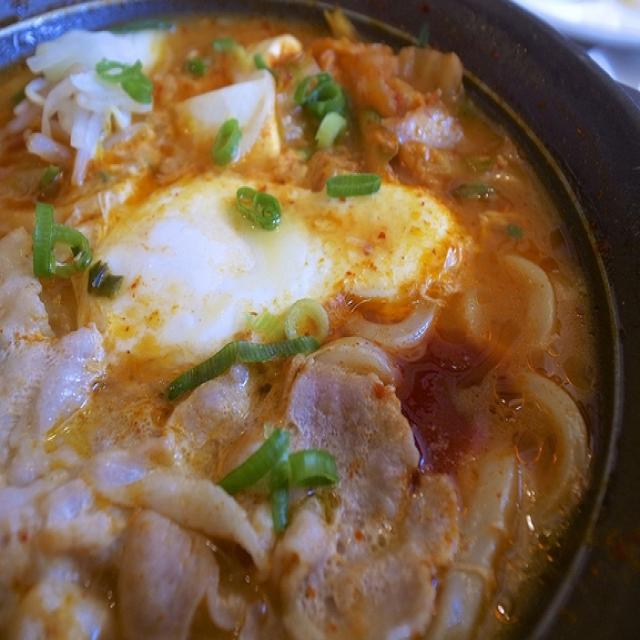汤锅炖物: (11, 24, 588, 615)
